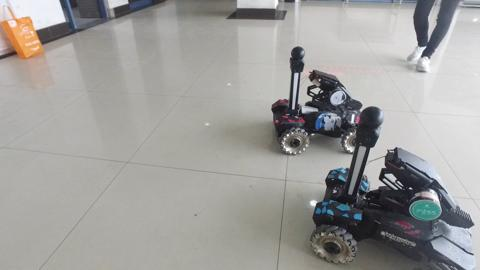chariot: (308, 97, 478, 270), (273, 47, 370, 157)
